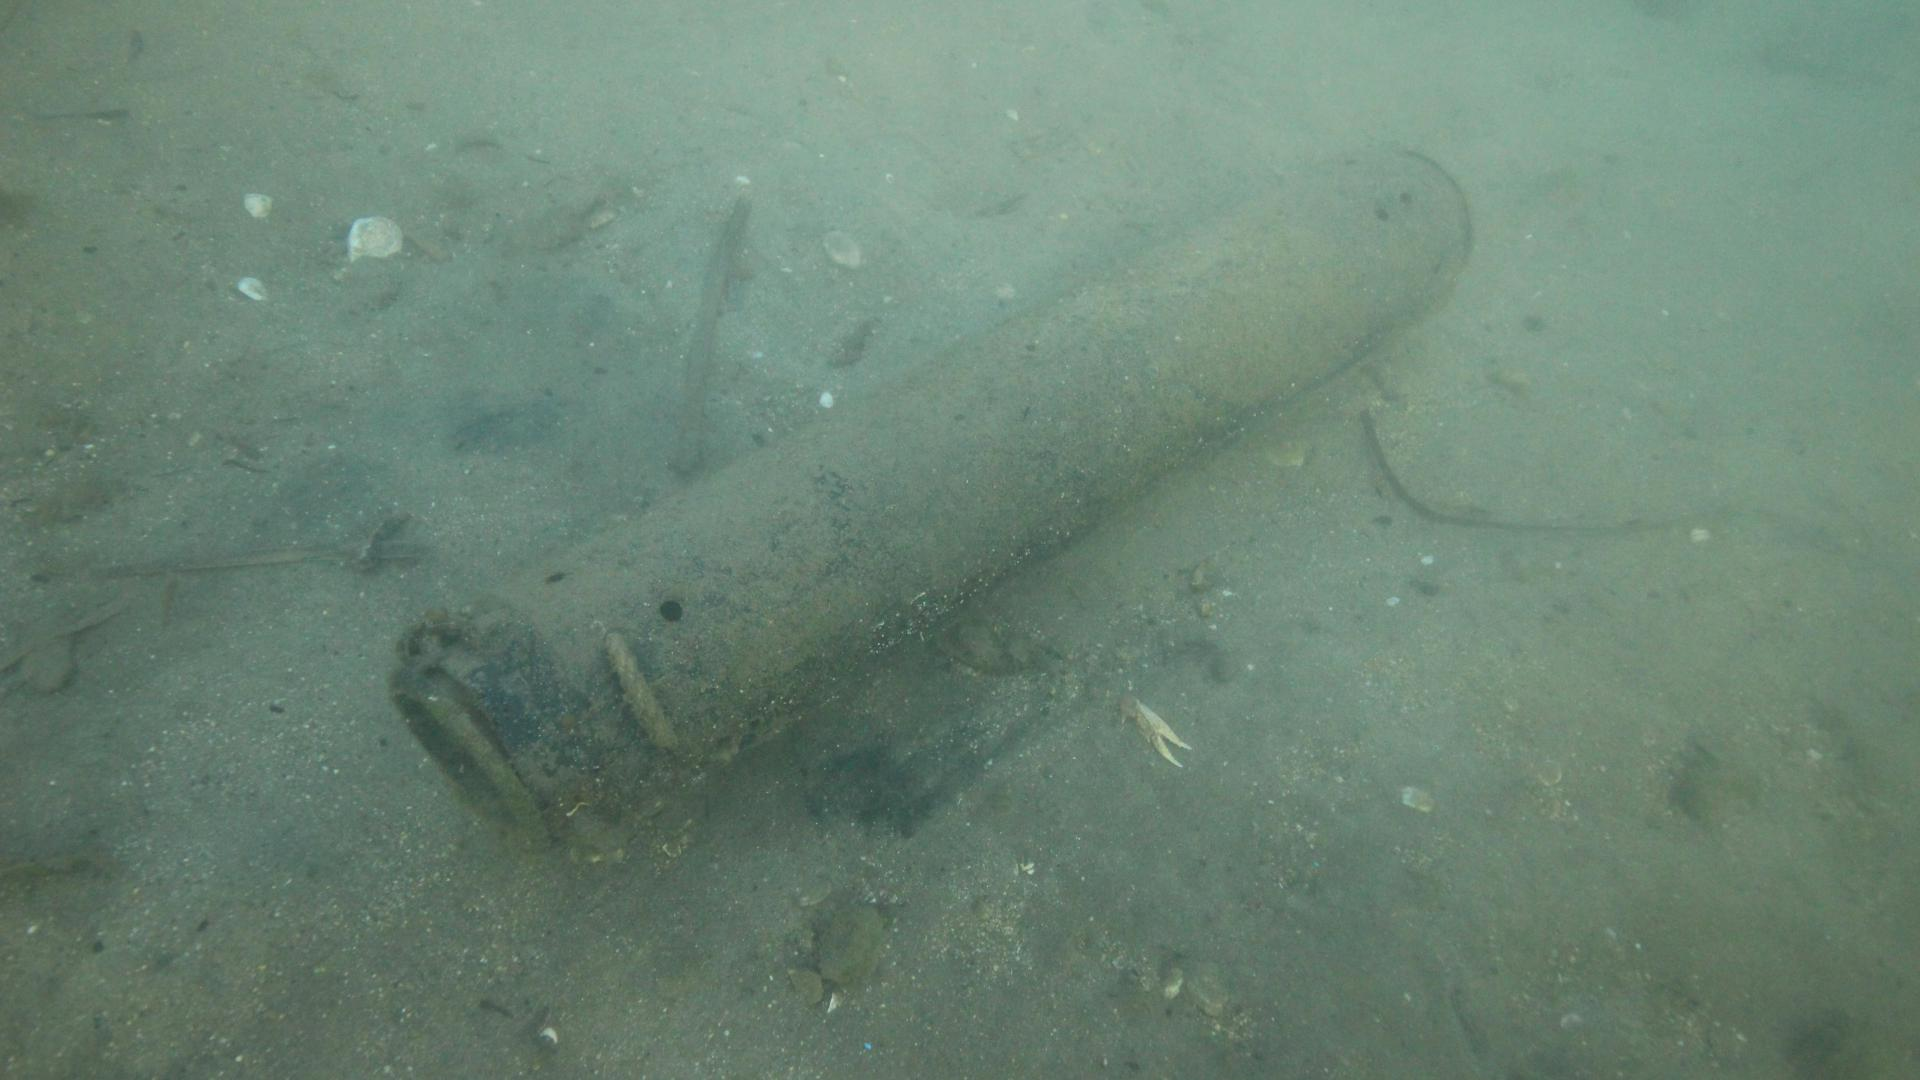eel fish trap: (386, 149, 1480, 845)
